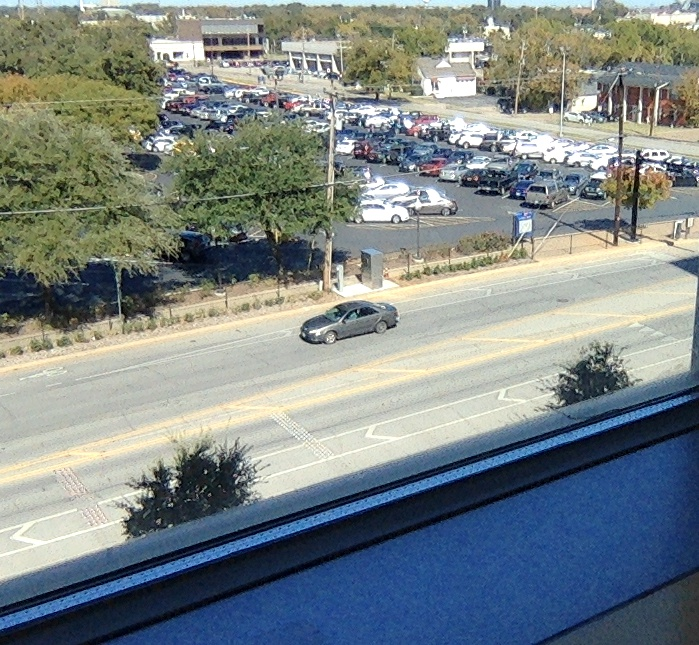car: (300, 300, 399, 345)
